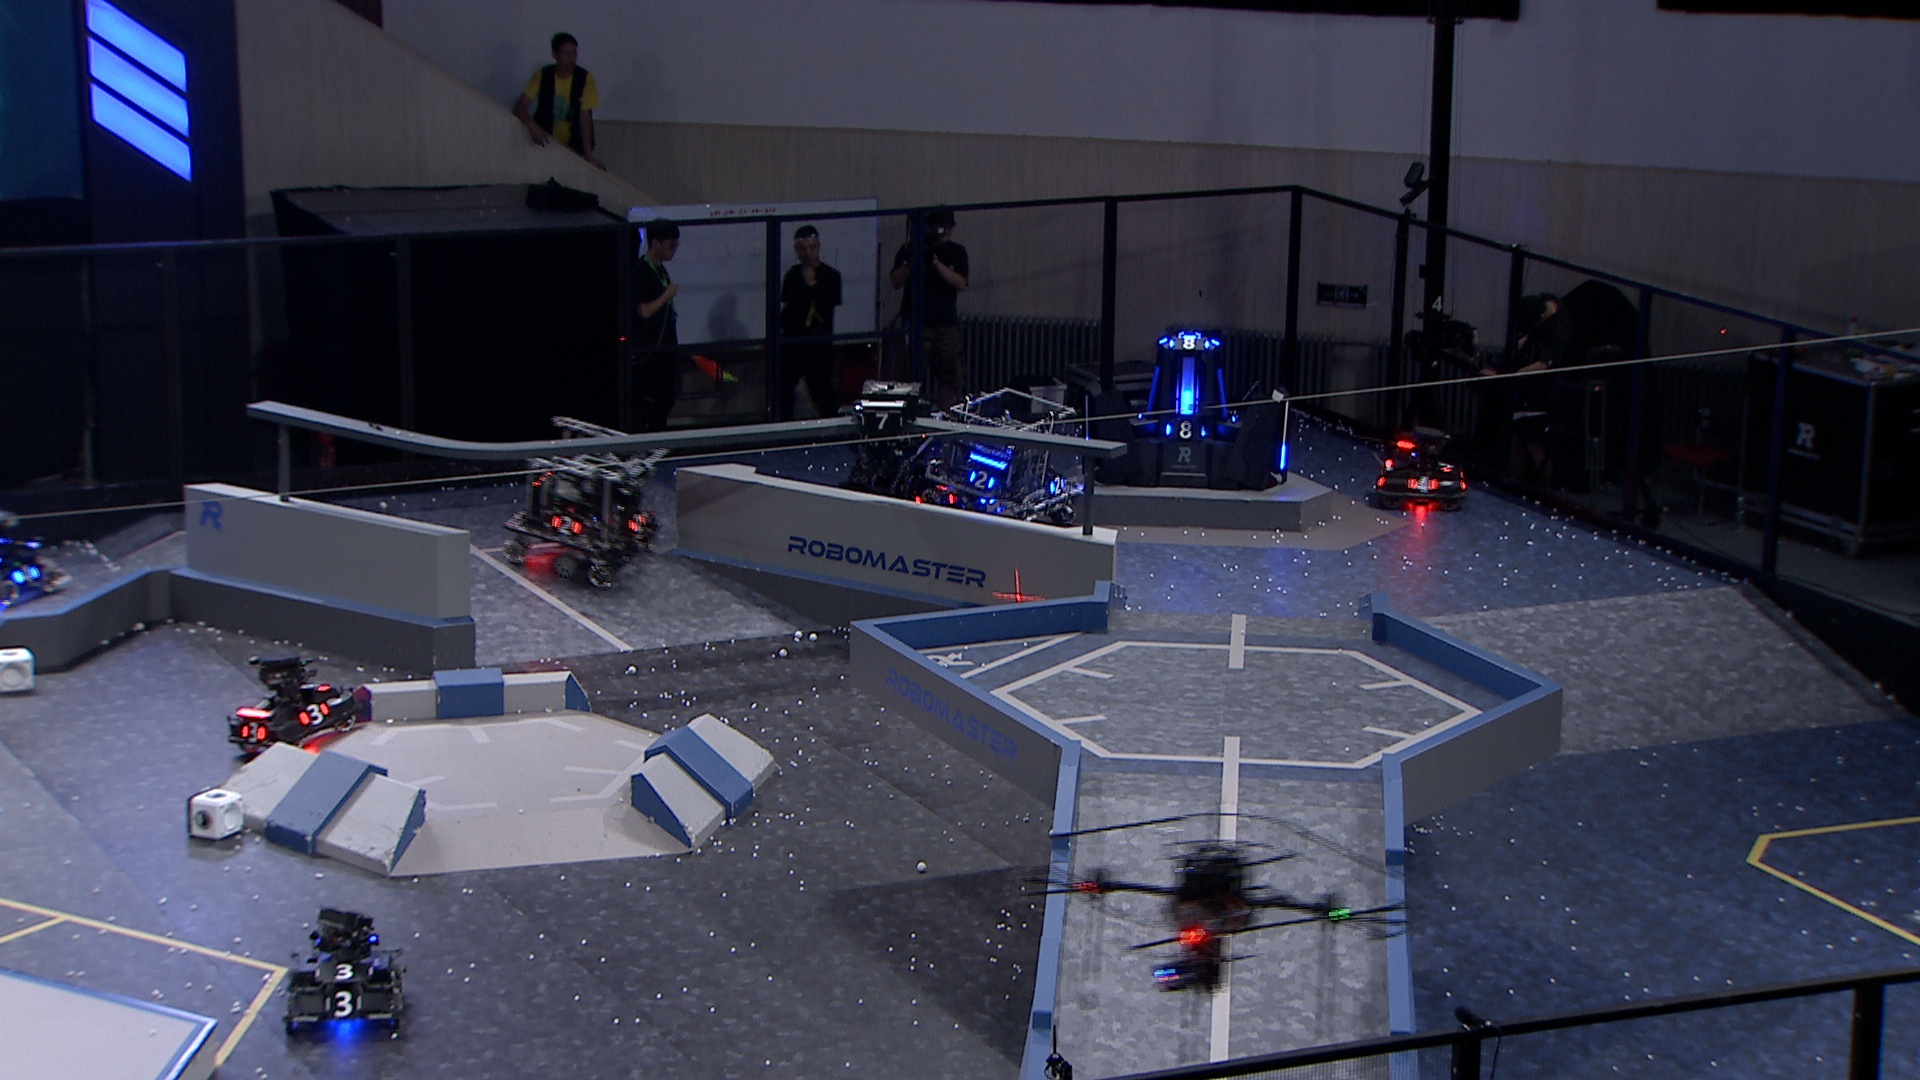armor: (313, 960, 378, 981), (324, 989, 367, 1021), (1139, 361, 1163, 417), (1215, 363, 1233, 423), (1162, 418, 1211, 439), (858, 410, 906, 431), (1164, 332, 1215, 352), (295, 698, 328, 727), (7, 562, 40, 588), (968, 467, 996, 495), (237, 721, 266, 746), (551, 512, 580, 535), (1404, 475, 1439, 495), (1176, 386, 1199, 415), (626, 509, 647, 535), (297, 679, 334, 694), (1433, 456, 1456, 480), (386, 965, 404, 994), (1046, 473, 1067, 495), (1276, 440, 1291, 471)
base: (1079, 327, 1296, 493)
car: (493, 415, 669, 591), (931, 380, 1091, 535), (281, 906, 409, 1040), (840, 406, 975, 517), (220, 650, 363, 754), (1366, 419, 1474, 510)
watcher: (851, 376, 923, 476)
